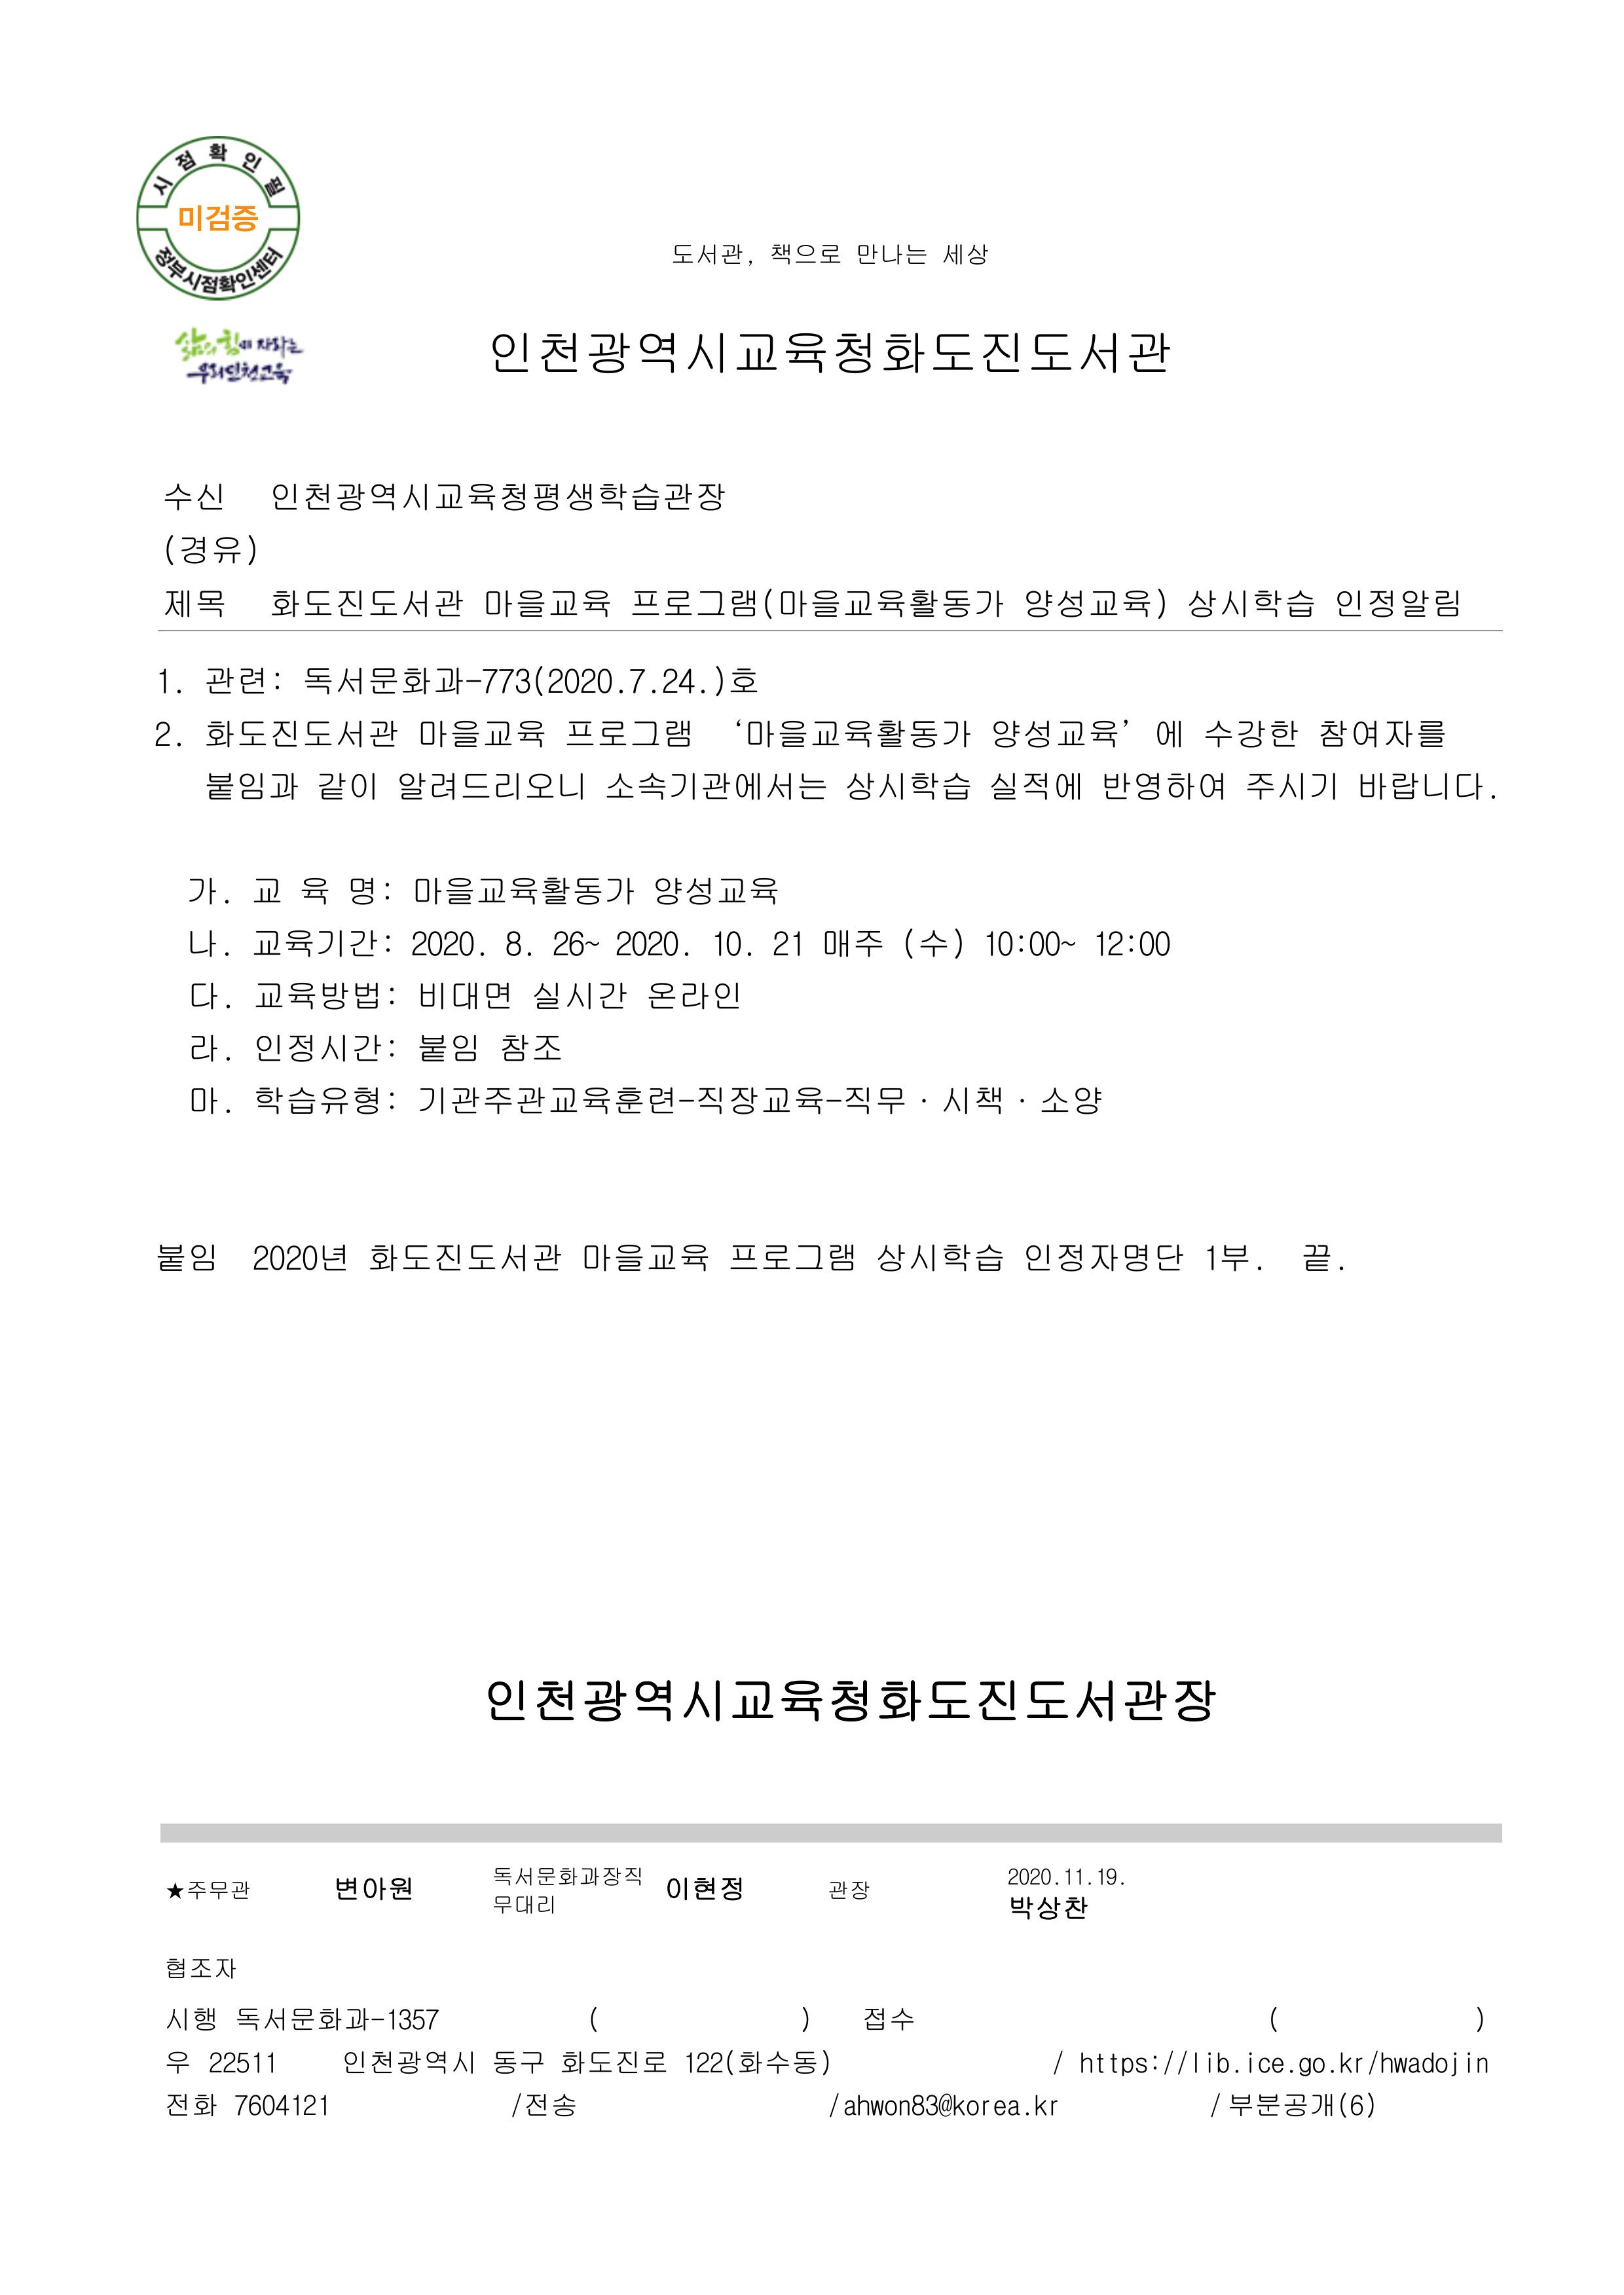t: (483, 1675, 1220, 1727), (685, 327, 1172, 380), (269, 476, 724, 517), (301, 662, 756, 699), (627, 583, 1007, 620), (487, 327, 680, 380), (731, 713, 975, 754), (411, 1082, 680, 1118), (411, 872, 638, 910), (603, 766, 828, 803), (204, 713, 401, 754), (691, 1082, 914, 1118), (366, 1237, 562, 1276), (394, 766, 589, 803), (269, 583, 462, 620), (237, 2005, 441, 2033), (1021, 1241, 1183, 1276), (251, 868, 395, 907), (255, 975, 397, 1014), (1021, 583, 1169, 620), (1225, 2088, 1378, 2123), (1330, 583, 1462, 624), (680, 2044, 831, 2079), (255, 1028, 397, 1065), (251, 1082, 401, 1118), (1355, 766, 1496, 803), (417, 713, 545, 754), (1316, 713, 1445, 754), (988, 717, 1121, 756), (576, 1237, 710, 1276), (255, 924, 394, 961), (1186, 583, 1313, 624), (872, 1237, 1004, 1276), (844, 2091, 1023, 2119), (647, 875, 777, 914), (562, 715, 691, 754), (480, 583, 610, 620), (842, 766, 972, 803), (1100, 766, 1225, 803), (728, 1241, 856, 1276), (176, 329, 304, 362), (341, 2047, 476, 2079), (1200, 713, 1297, 754), (494, 1864, 645, 1889), (1241, 766, 1341, 803), (979, 924, 1079, 961), (204, 766, 301, 803), (986, 766, 1083, 803), (531, 979, 631, 1014), (162, 531, 258, 566), (417, 979, 513, 1014), (645, 979, 742, 1014), (555, 2047, 666, 2075), (251, 1241, 348, 1272), (176, 200, 258, 237), (204, 662, 286, 699), (1090, 924, 1172, 961), (408, 924, 487, 961), (613, 924, 685, 961), (663, 1871, 742, 1905), (186, 362, 294, 387), (1007, 1893, 1090, 1924), (900, 924, 968, 961), (232, 2095, 334, 2119), (1367, 2049, 1461, 2075), (939, 1082, 1007, 1118), (1035, 1082, 1104, 1118), (162, 583, 227, 620), (315, 766, 380, 803), (417, 1028, 480, 1065), (499, 1028, 562, 1065), (821, 924, 882, 961), (165, 1879, 251, 1905), (156, 1241, 218, 1276), (506, 2089, 576, 2119), (165, 480, 227, 513), (548, 924, 603, 961), (359, 1871, 417, 1905), (1200, 1241, 1255, 1276), (673, 244, 749, 269), (856, 244, 928, 269), (165, 1958, 237, 1982), (207, 2051, 279, 2075), (490, 2047, 545, 2079), (186, 1028, 232, 1065), (162, 2089, 218, 2119), (939, 239, 990, 269), (772, 244, 842, 265), (165, 2005, 218, 2033), (861, 2005, 914, 2033), (186, 875, 232, 907), (1176, 2051, 1234, 2075), (1297, 1241, 1338, 1276), (186, 924, 227, 958), (186, 1082, 227, 1116), (1107, 2054, 1162, 2079), (494, 1893, 552, 1915), (186, 979, 227, 1010), (714, 931, 756, 961), (766, 928, 803, 961), (1007, 1864, 1055, 1889), (1297, 2054, 1341, 2079), (1244, 2051, 1287, 2075), (828, 1882, 872, 1905), (1151, 717, 1183, 749), (1459, 2047, 1492, 2075), (1076, 2047, 1107, 2075), (506, 931, 531, 961), (155, 720, 179, 749), (1338, 2051, 1366, 2075), (1033, 2095, 1062, 2119), (337, 1875, 362, 1900), (1062, 1868, 1090, 1889), (156, 671, 179, 696), (169, 2051, 190, 2075), (1097, 1868, 1118, 1889)
